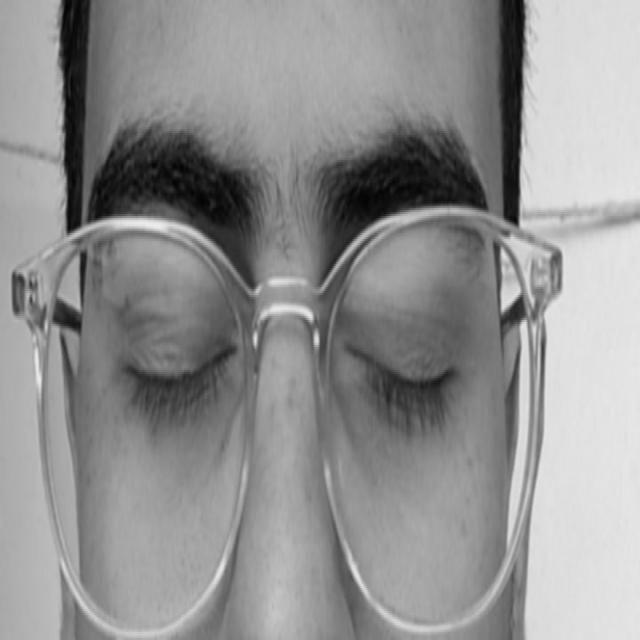real: (109, 252, 483, 466)
